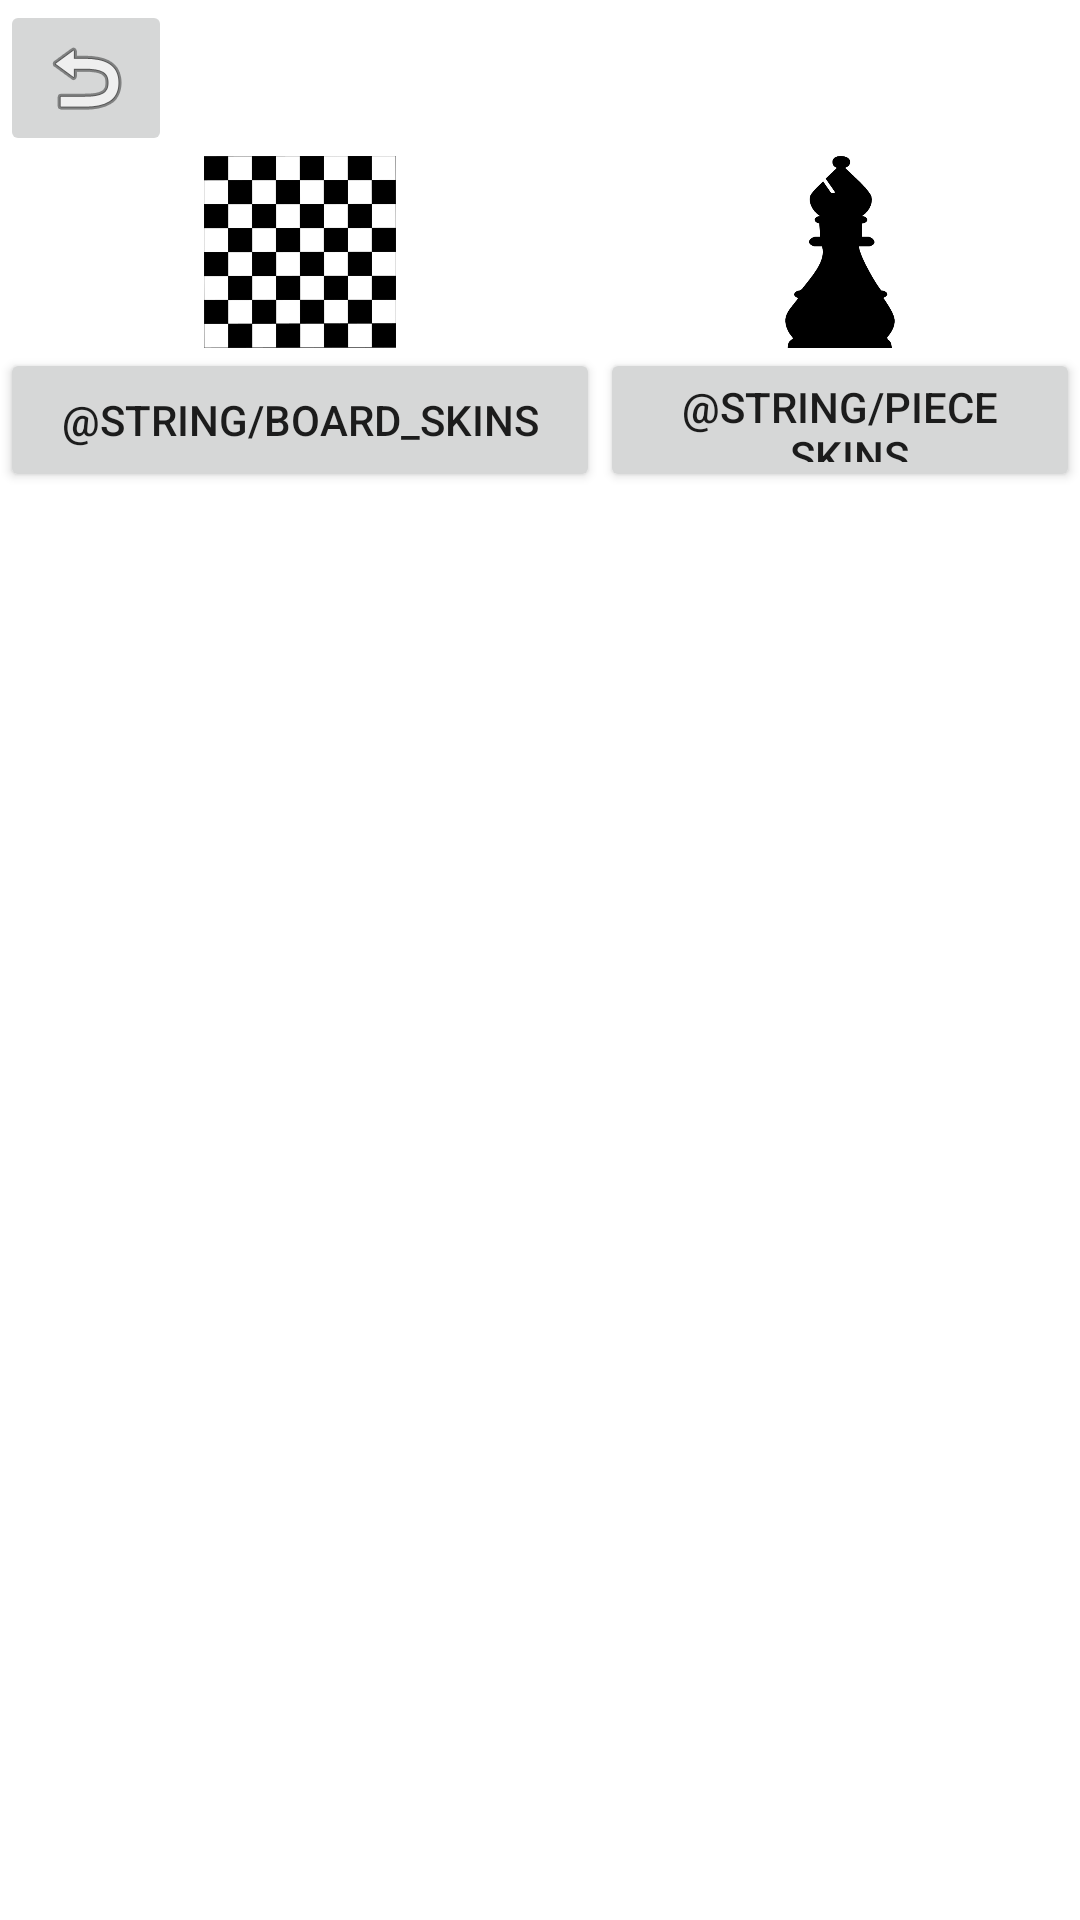

Locate icon controls on the screen. Image size 1080x1920, boxes as (x1, y1, x2, y2).
blackbishop: (785, 156, 895, 348)
revert: (12, 18, 160, 138)
